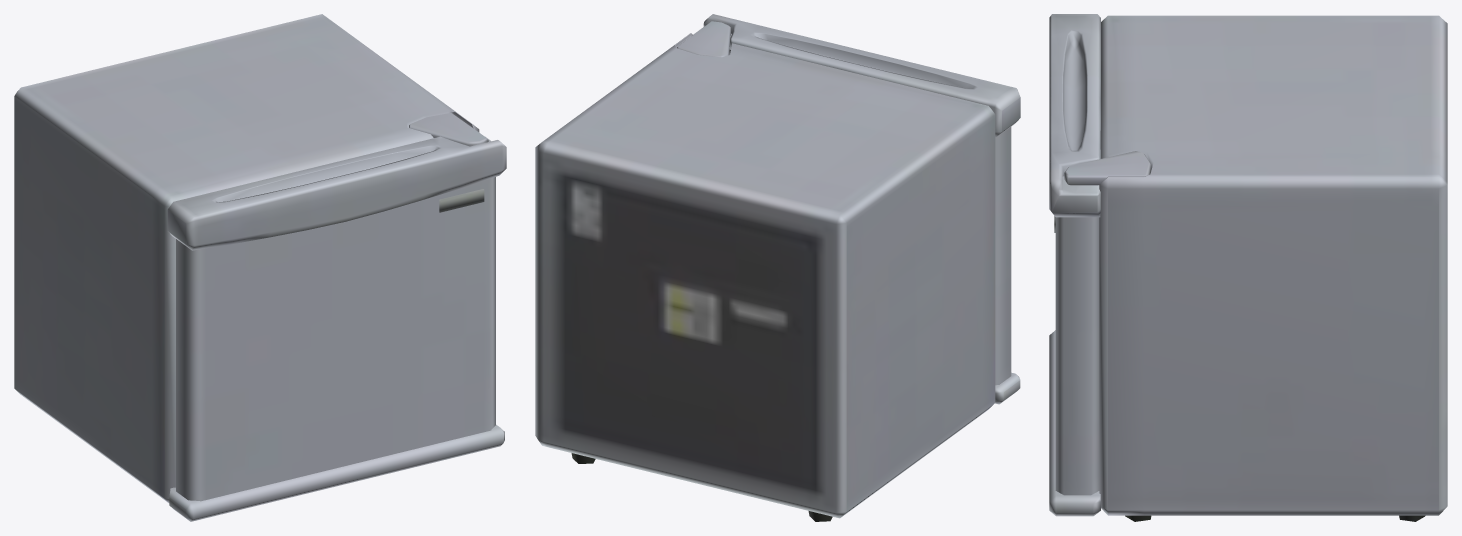
3 renders of one model, left to right at view 1: azimuth 30°, elevation 25°; view 2: azimuth 150°, elevation 25°; view 3: azimuth 270°, elevation 25°, orthographic. The views are drawn at different scales.
Bounding box in the file's own units: 7.18 × 6.96 × 7.06.
Materials: 1 (1 with a texture image).
